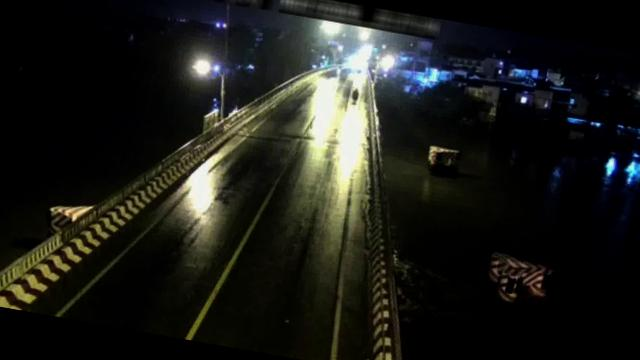Bike: (348, 86, 362, 108)
